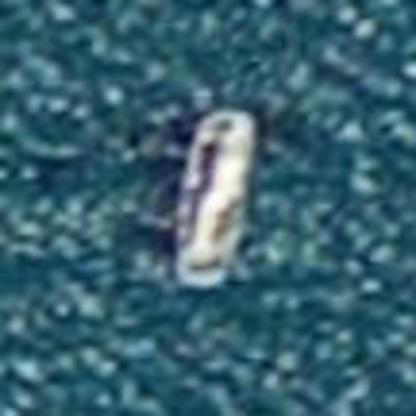ship: (162, 93, 261, 299)
